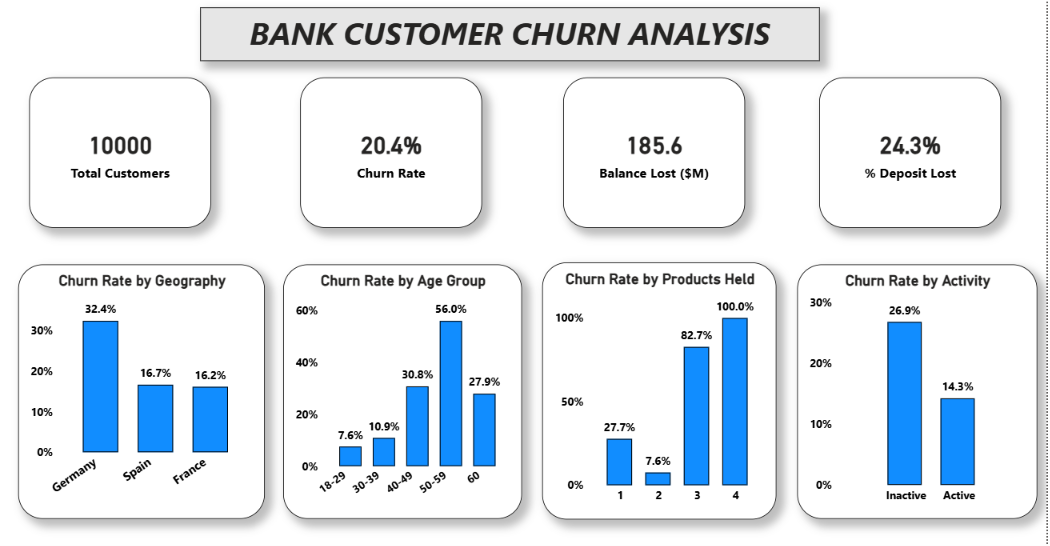

What the dashboard file says about the page in this screenshot:
{"tool":"powerbi","page":{"name":"Page 1","canvas":[1280,720],"ordinal":0},"visuals":[{"type":"card","fields":{"Values":["Churn_Modelling.Total Customers"]},"box":[37,101.5,222.3,183.9],"z":0},{"type":"textbox","box":[245.6,16.5,757.5,65.9],"z":1000},{"type":"card","fields":{"Values":["Churn_Modelling.Churn Rate"]},"box":[367.8,101.5,222.3,183.9],"z":2000},{"type":"card","fields":{"Values":["Churn_Modelling.Balance Lost ($M)"]},"box":[690.2,101.5,222.3,183.9],"z":3000},{"type":"card","fields":{"Values":["Churn_Modelling.% Deposit Lost"]},"box":[1003.1,101.5,222.3,183.9],"z":4000},{"type":"clusteredColumnChart","fields":{"Category":["Churn_Modelling.Geography"],"Y":["Churn_Modelling.Churn Rate"]},"box":[23.3,330.7,301.9,311.5],"z":4001},{"type":"clusteredColumnChart","title":"Churn Rate by Age Group","fields":{"Category":["Churn_Modelling.AgeBand"],"Y":["Churn_Modelling.Churn Rate"]},"box":[347.2,330.7,292.3,311.5],"z":4003},{"type":"clusteredColumnChart","title":"Churn Rate by Products Held","fields":{"Y":["Churn_Modelling.Churn Rate"],"Category":["Churn_Modelling.NumOfProducts"]},"box":[664.2,328,286.8,314.2],"z":4004},{"type":"clusteredColumnChart","title":"Churn Rate by Activity","fields":{"Y":["Churn_Modelling.Churn Rate"],"Category":["Churn_Modelling.ActiveStatus"]},"box":[975.6,330.7,293.7,311.5],"z":4005}]}

Visuals, with their boxes on the page's 1280x720 design canvas (x1, y1, x2, y2). These are canvas units, not pixel positions in the 1050x546 screenshot, which may show the page scaled, cropped or inside an application window:
card - Churn_Modelling.Total Customers: 37,102,259,285
textbox: 246,16,1003,82
card - Churn_Modelling.Churn Rate: 368,102,590,285
card - Churn_Modelling.Balance Lost ($M): 690,102,912,285
card - Churn_Modelling.% Deposit Lost: 1003,102,1225,285
clusteredColumnChart - Churn_Modelling.Geography x Churn_Modelling.Churn Rate: 23,331,325,642
"Churn Rate by Age Group" clusteredColumnChart: 347,331,640,642
"Churn Rate by Products Held" clusteredColumnChart: 664,328,951,642
"Churn Rate by Activity" clusteredColumnChart: 976,331,1269,642
